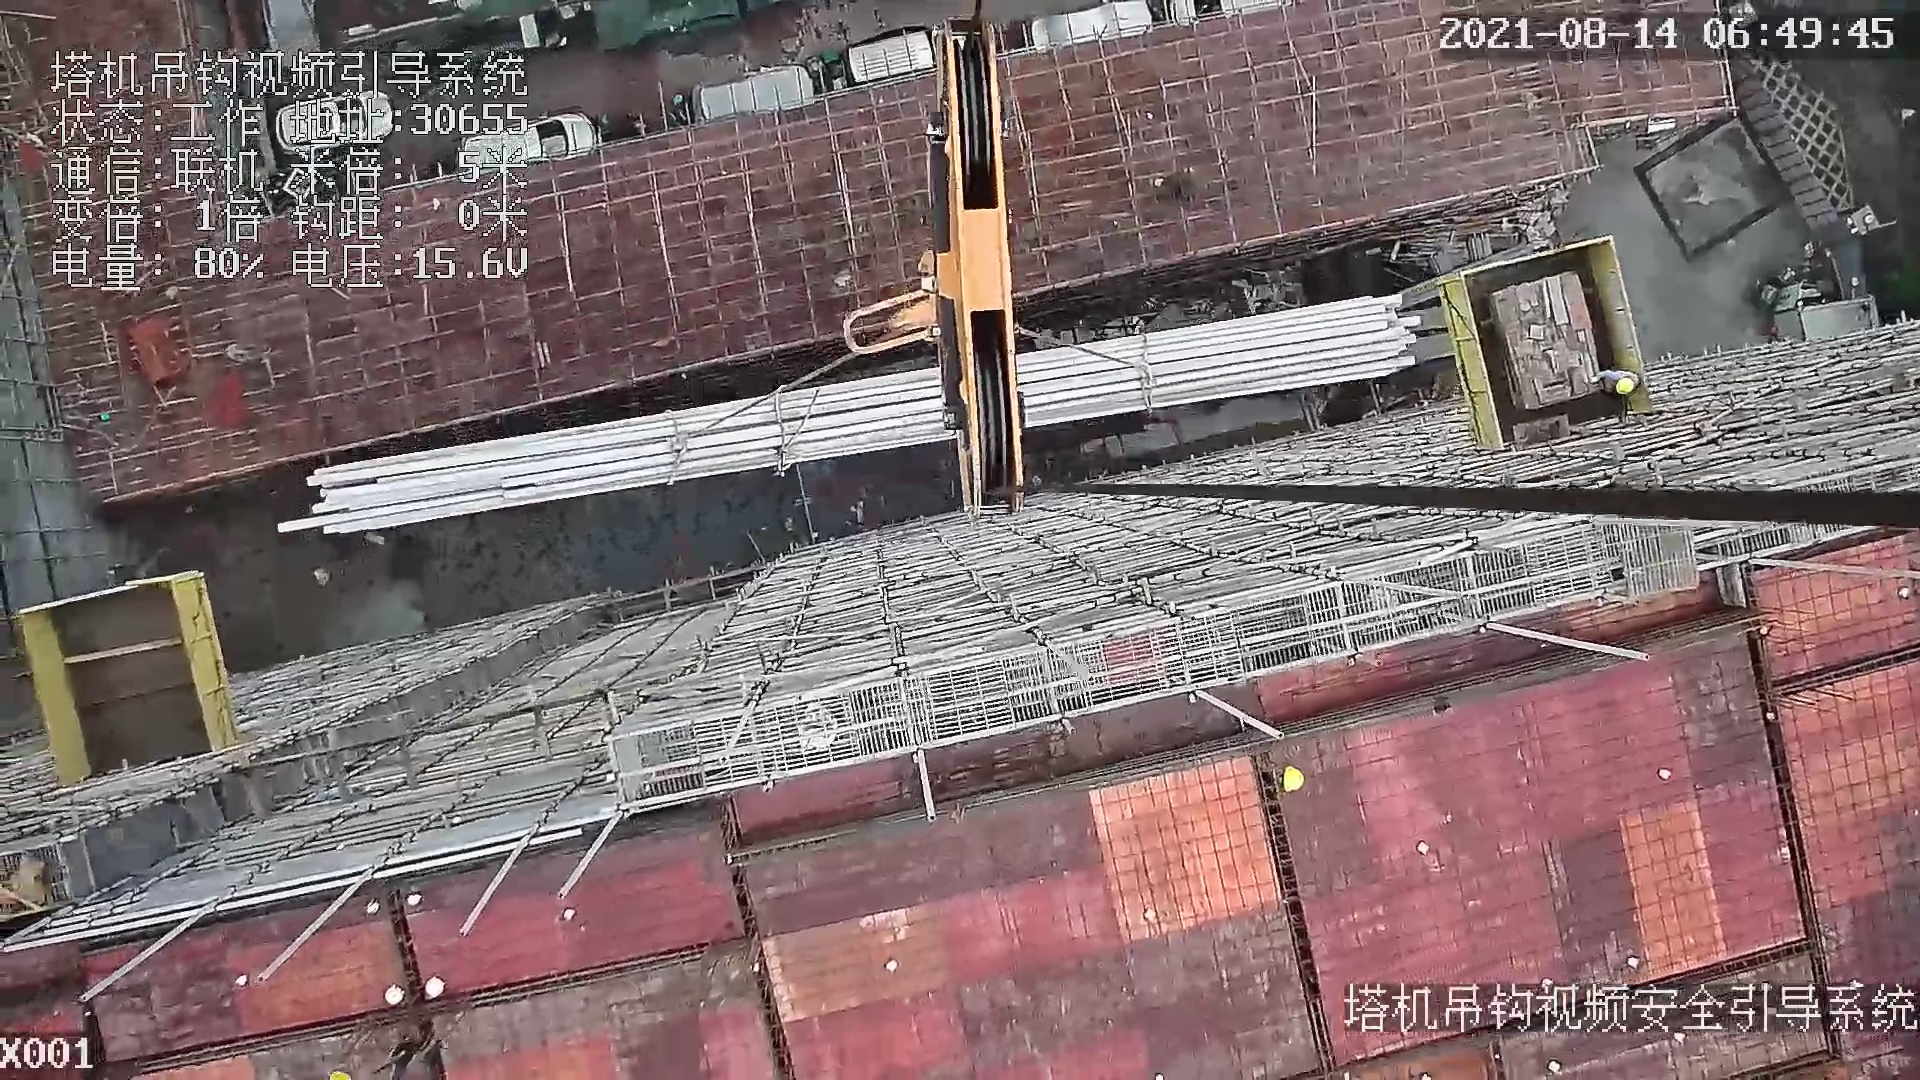helmet: (1278, 765, 1323, 798), (1612, 372, 1638, 403)
hook: (840, 17, 1028, 526)
person: (1591, 363, 1640, 404)
